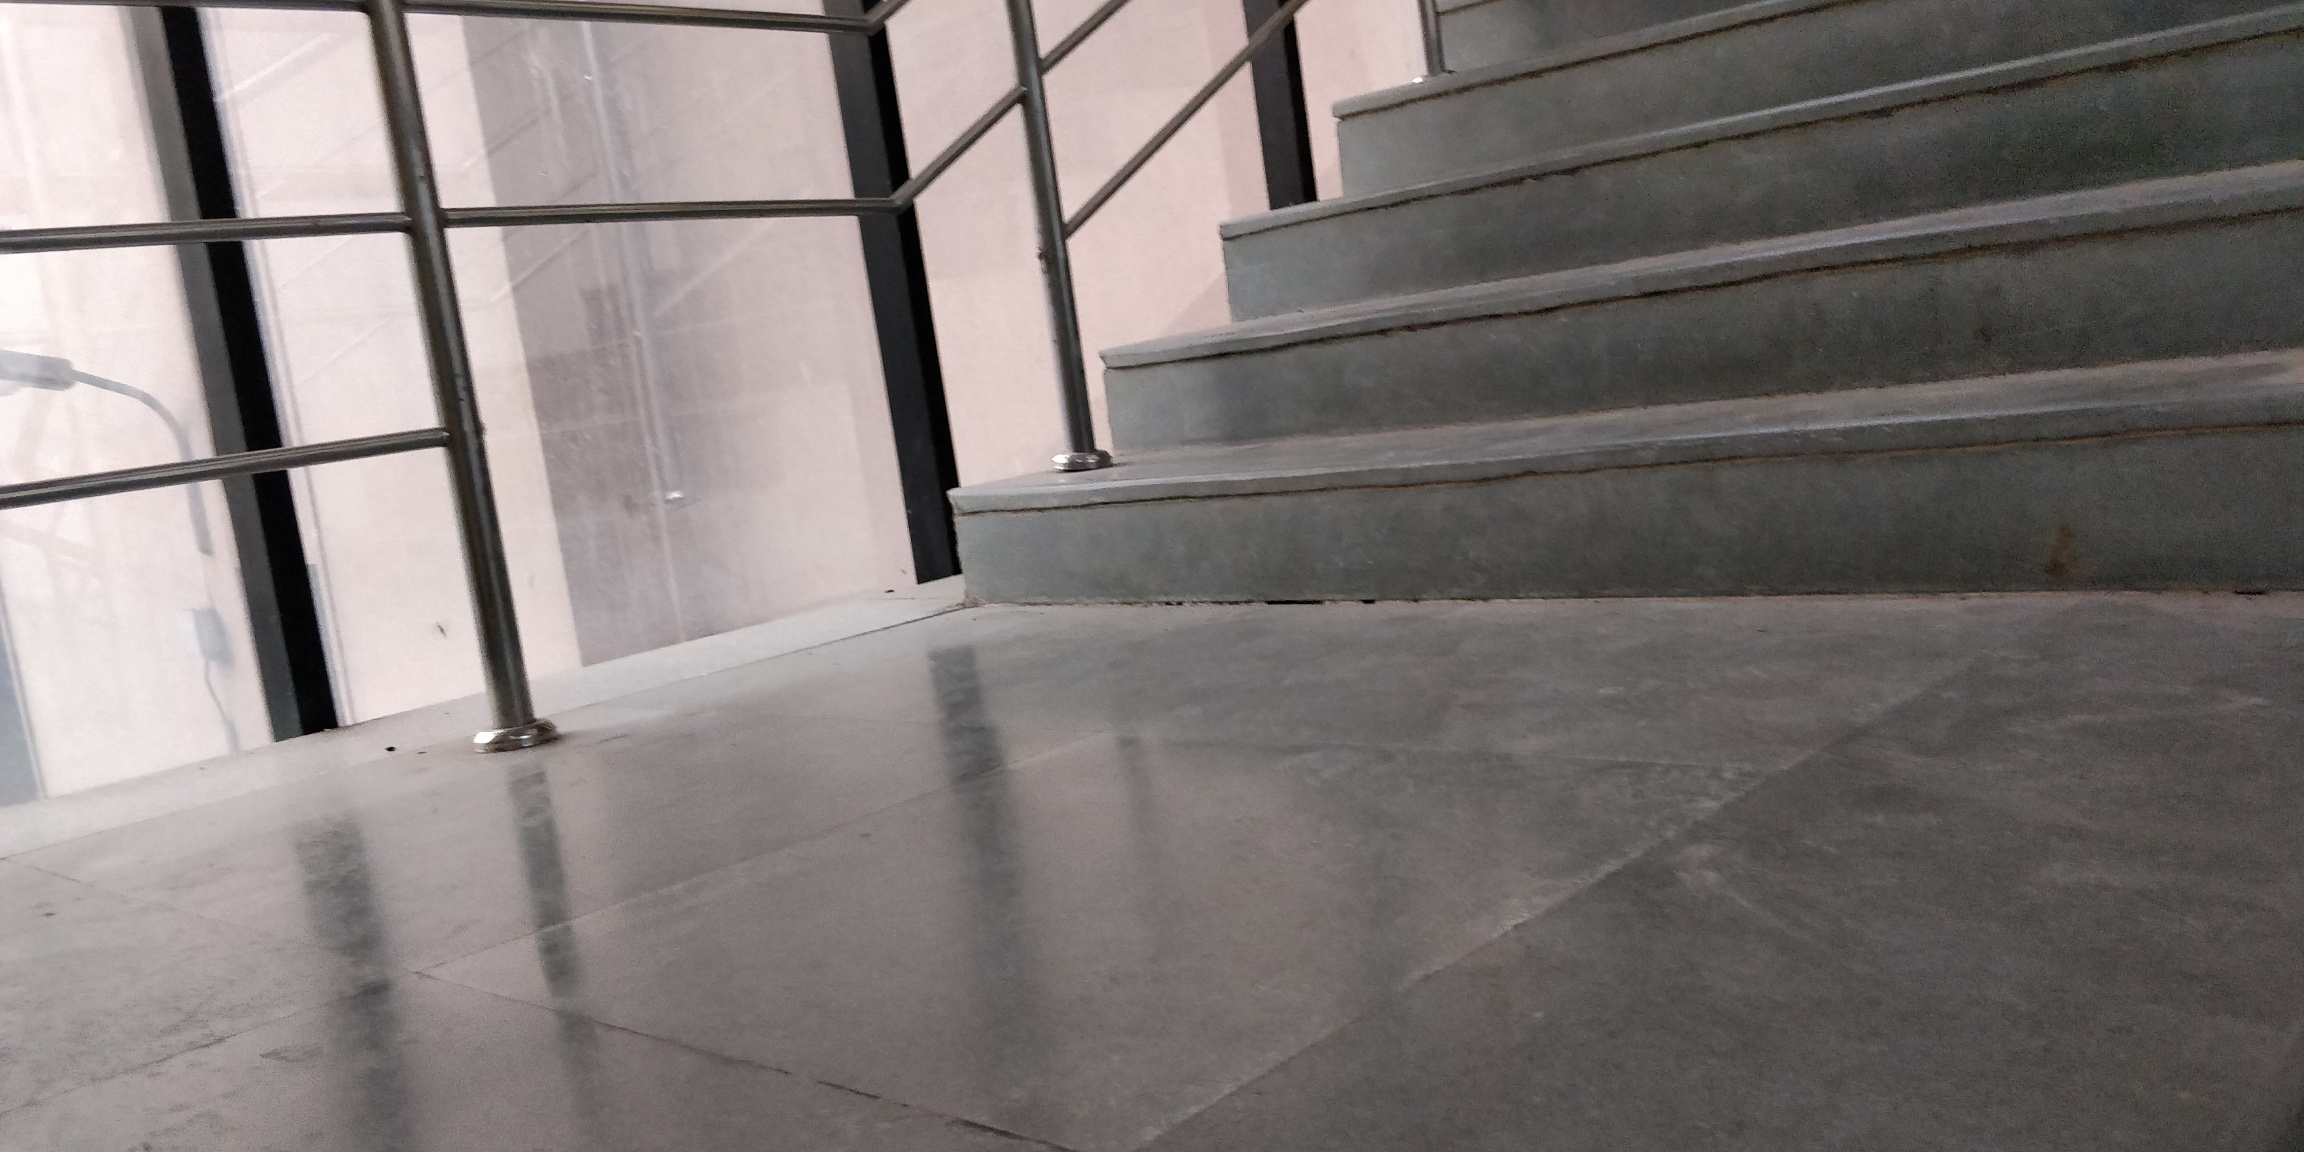stairs_up: (1123, 51, 2304, 602)
